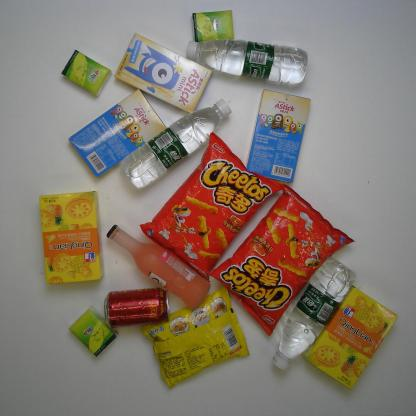Alcohol: (105, 223, 211, 310)
Dessert: (304, 285, 399, 389), (67, 87, 168, 178), (114, 33, 215, 115), (243, 88, 312, 183), (38, 191, 103, 286)
Drink: (120, 98, 232, 191), (271, 255, 357, 372), (185, 38, 309, 86), (103, 286, 171, 327)
Instant Noodles: (140, 284, 252, 389)
Puffed Food: (205, 184, 356, 336), (137, 133, 285, 284)
Tissue: (61, 49, 112, 97), (69, 308, 117, 358), (191, 9, 234, 43)
